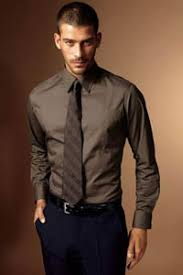tie: (60, 78, 89, 207)
